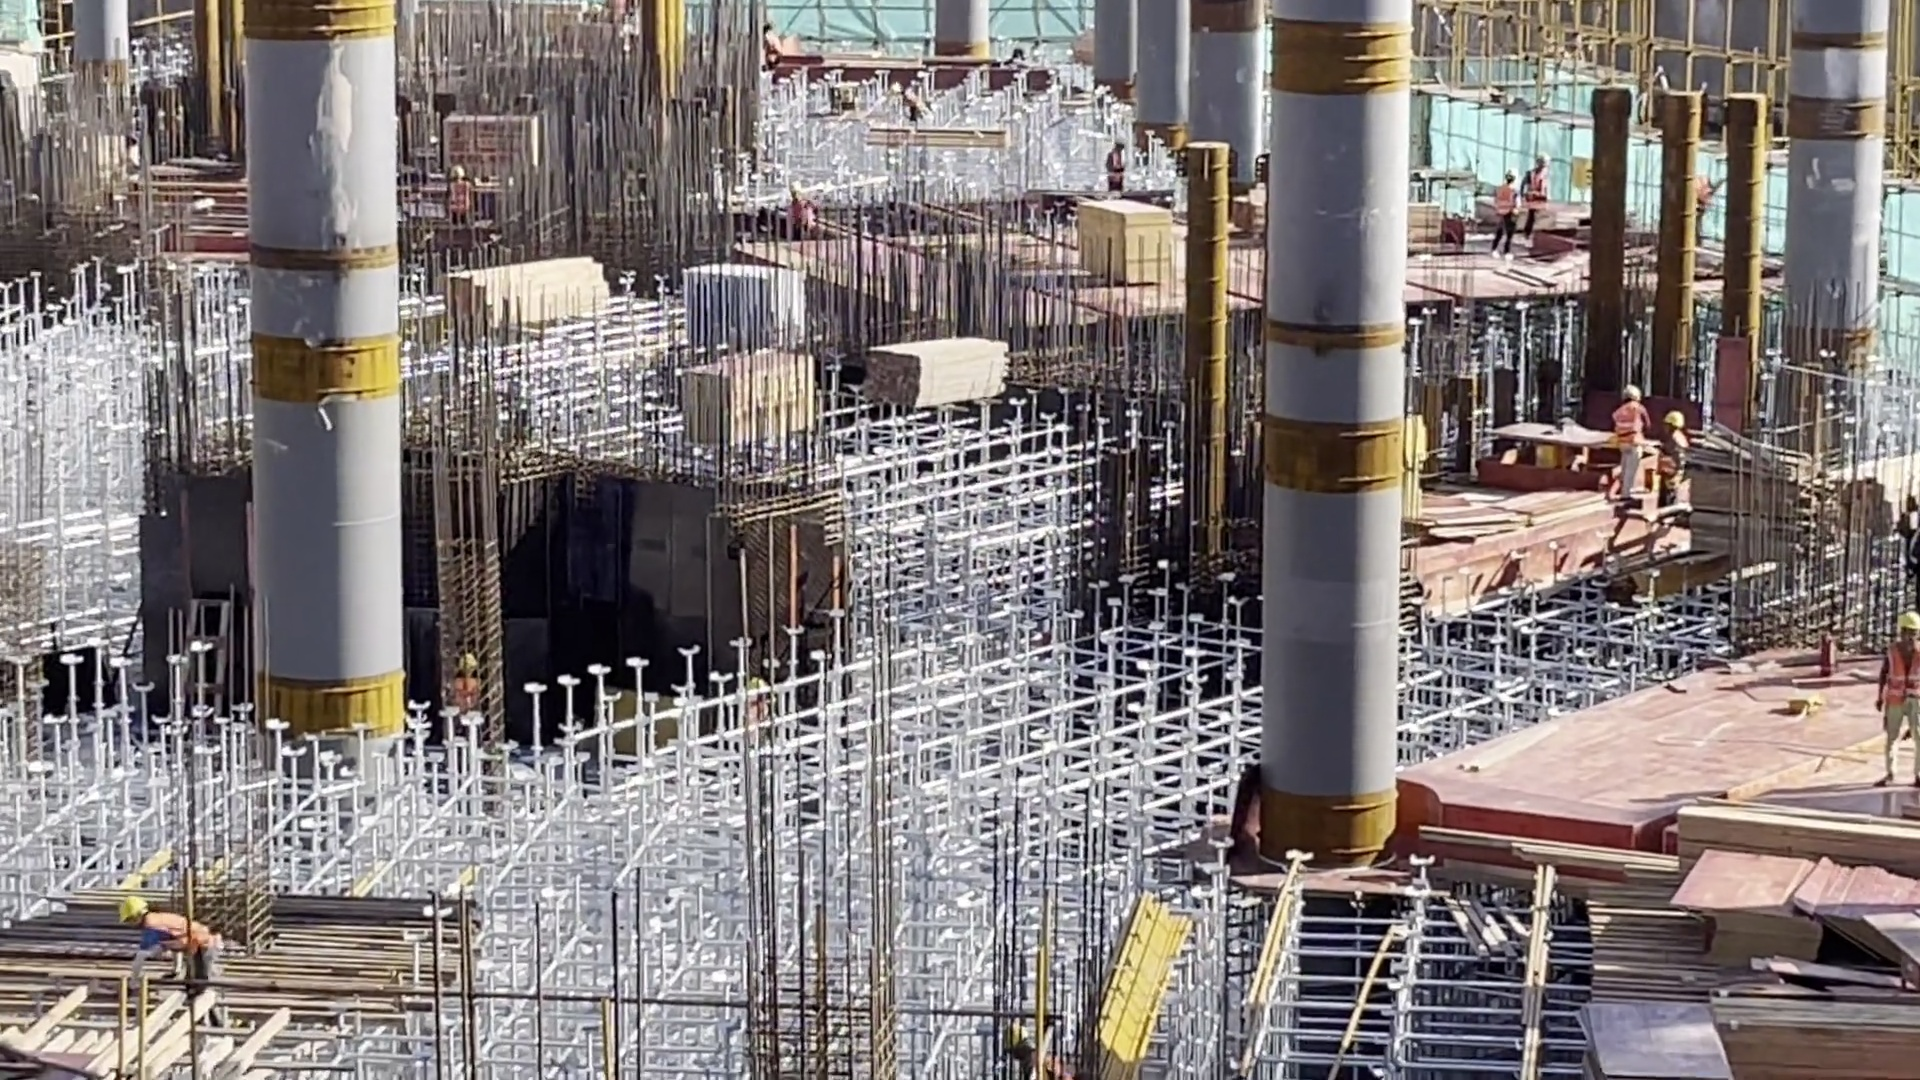helmet: (111, 890, 147, 921), (1894, 606, 1920, 643), (1663, 409, 1686, 443), (1109, 132, 1127, 154), (1616, 385, 1653, 396), (1534, 150, 1553, 170), (1502, 168, 1519, 180)
person: (95, 885, 228, 993), (1866, 604, 1920, 775), (1607, 380, 1649, 506), (1487, 170, 1521, 259), (1523, 145, 1551, 236), (1659, 460, 1690, 507), (1661, 414, 1692, 460), (1106, 137, 1130, 194)
vest: (145, 919, 219, 975), (1877, 638, 1920, 727), (1613, 401, 1650, 455), (1492, 187, 1518, 220), (1525, 171, 1545, 212)
